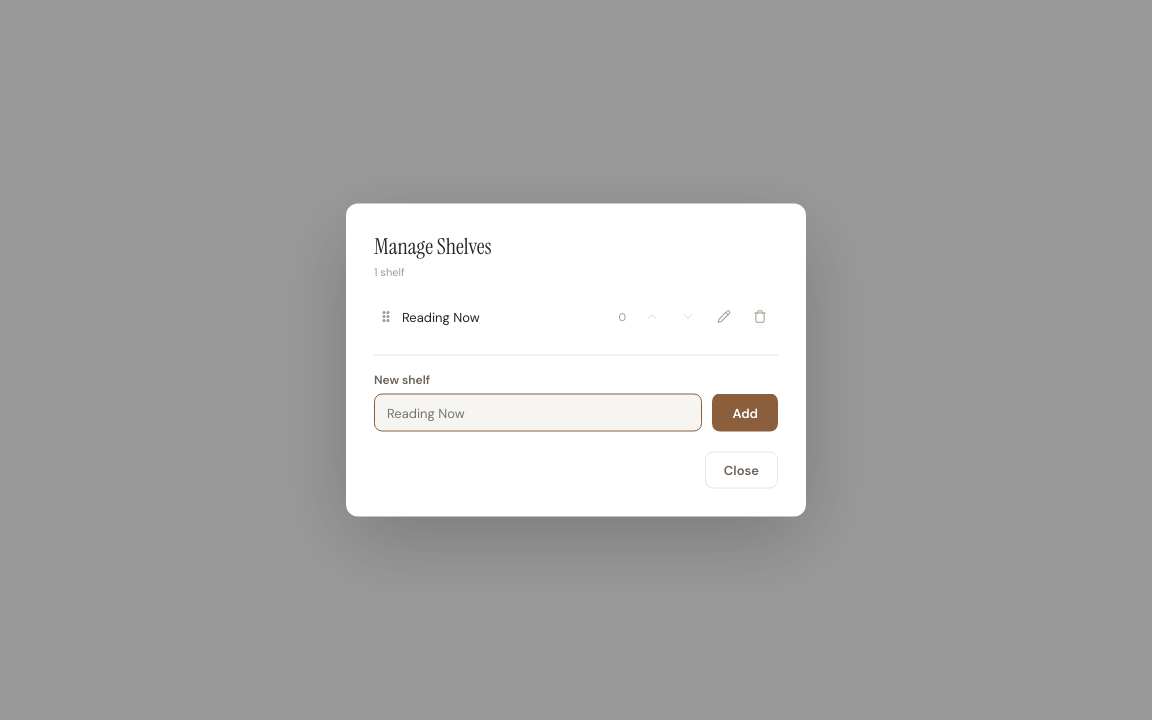
Test: ShelfManager › will not save an empty name
The image size is (1152, 720).
Check: the text "Reading Now" is shown, box [402, 308, 480, 325]
Click the button named "Edit Reading Now" at (724, 316), box [710, 302, 738, 330]
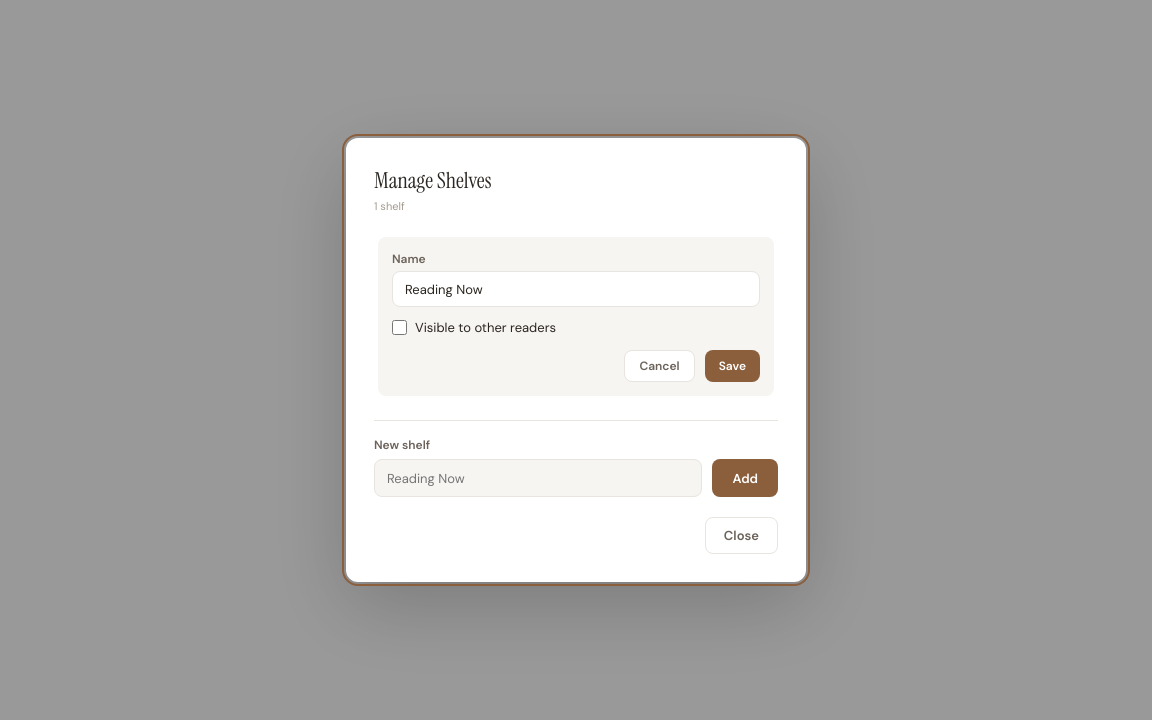
Clear the field labelled "Name" at (576, 289), box [392, 271, 760, 307]
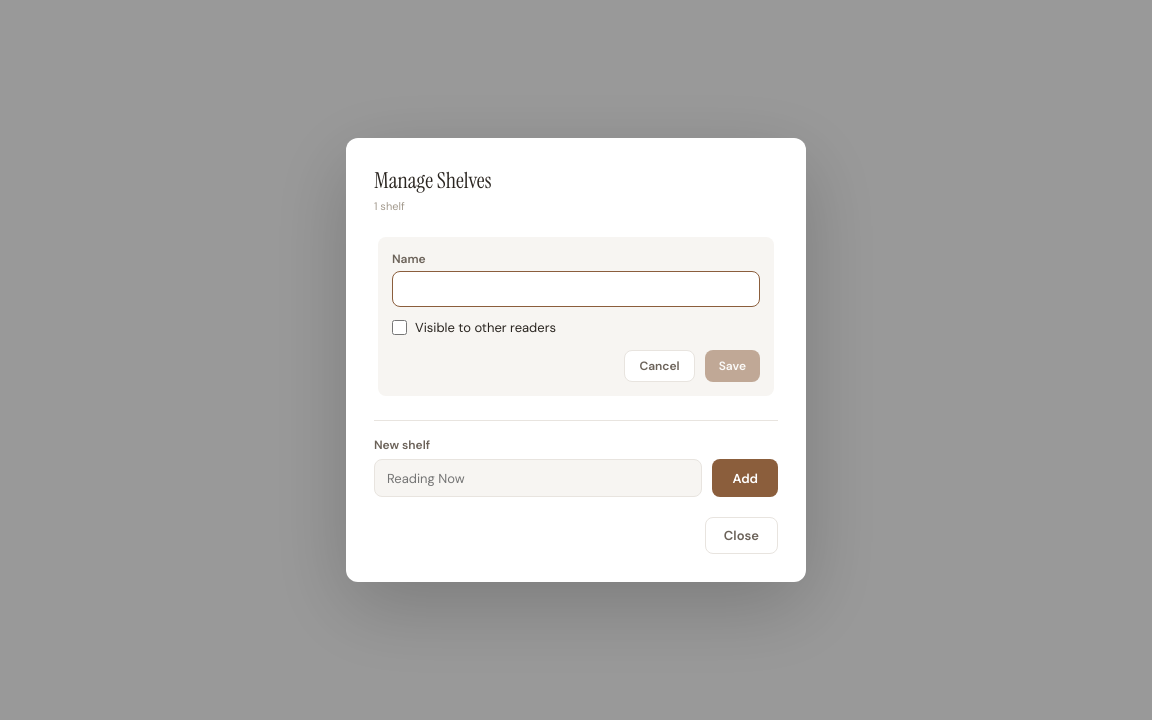
Check: the button "Save" is disabled, box [705, 350, 760, 382]
